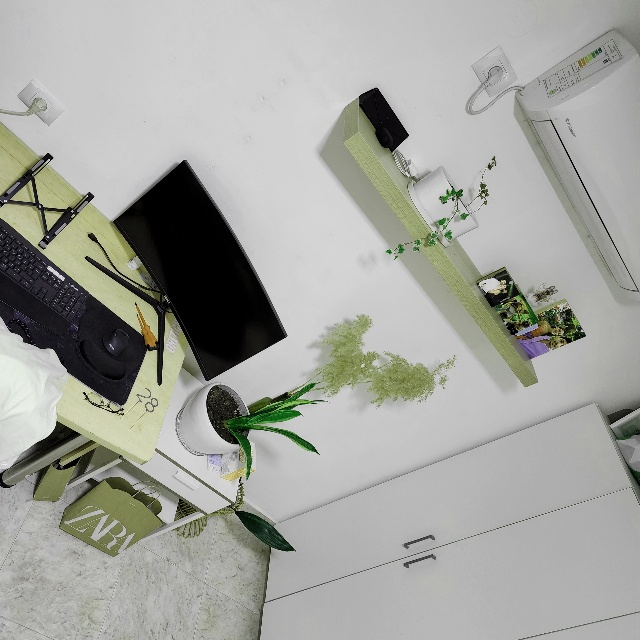glasses: (80, 385, 127, 418)
